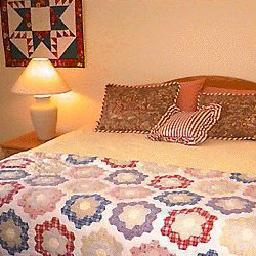Cama: (1, 83, 252, 255)
